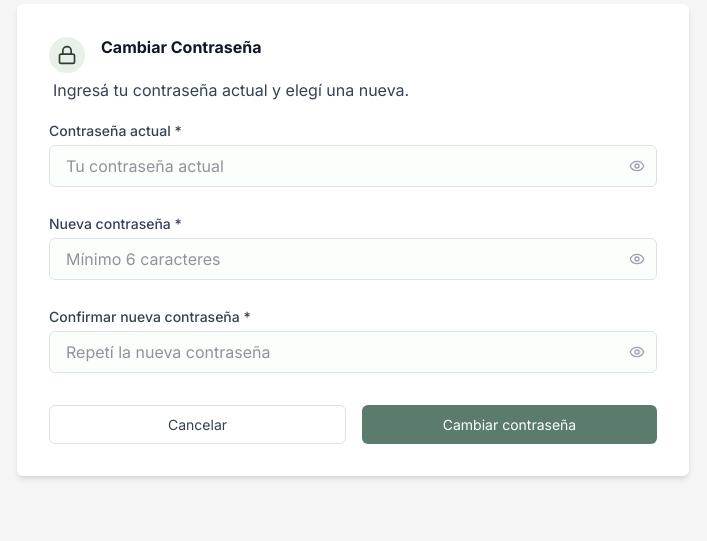
Test: ChangePassword › muestra error de validación: contraseña muy corta
In the password field with placeholder "Tu contraseña actual": (353, 166) 49,145 -> 657,187, type "oldpass"
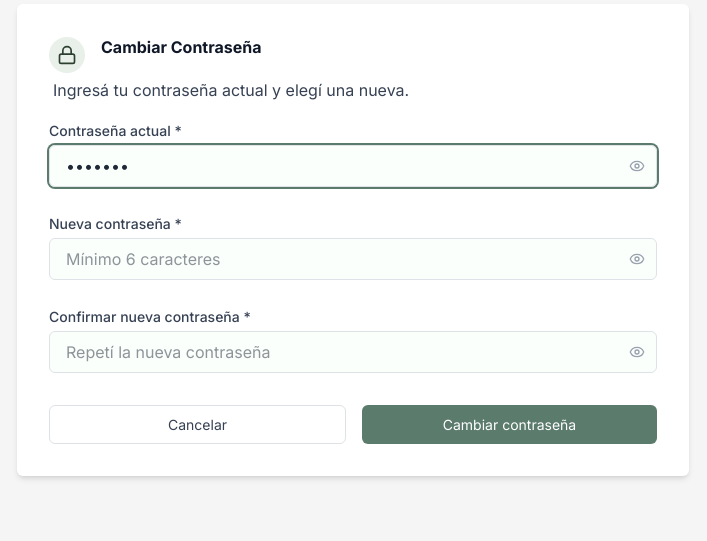
In the password field with placeholder "Mínimo 6 caracteres": (353, 259) 49,238 -> 657,280, type "abc"
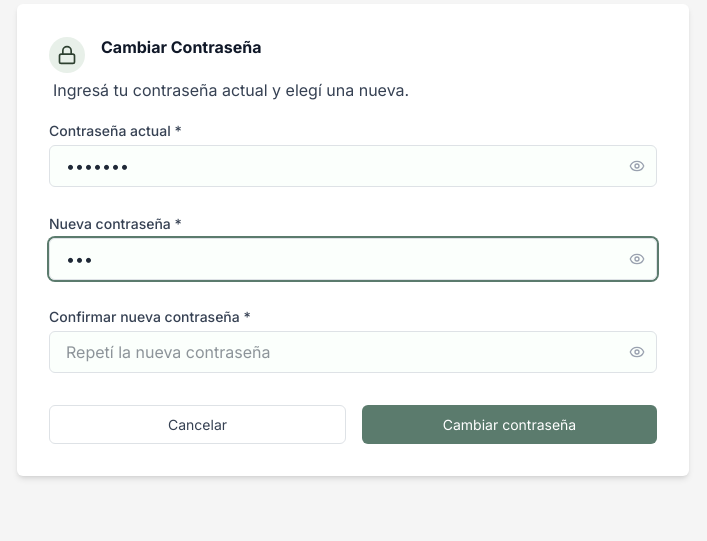
In the password field with placeholder "Repetí la nueva contraseña": (353, 352) 49,331 -> 657,373, type "abc"
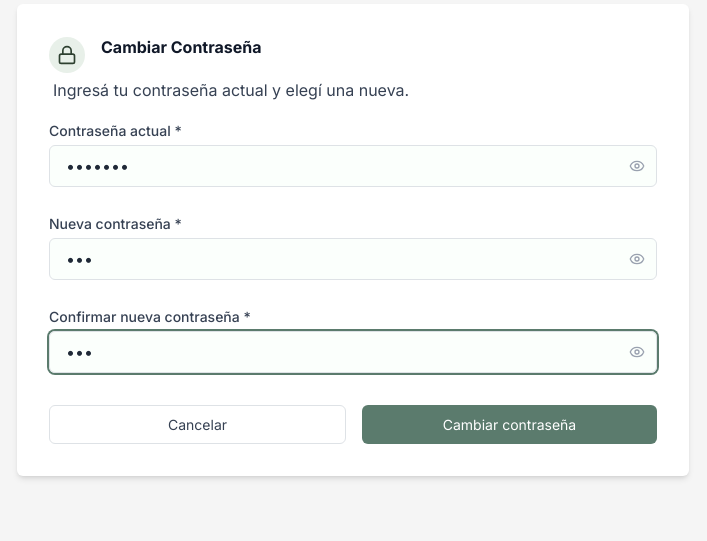
Click the button "Cambiar contraseña": (510, 425) 362,405 -> 657,444
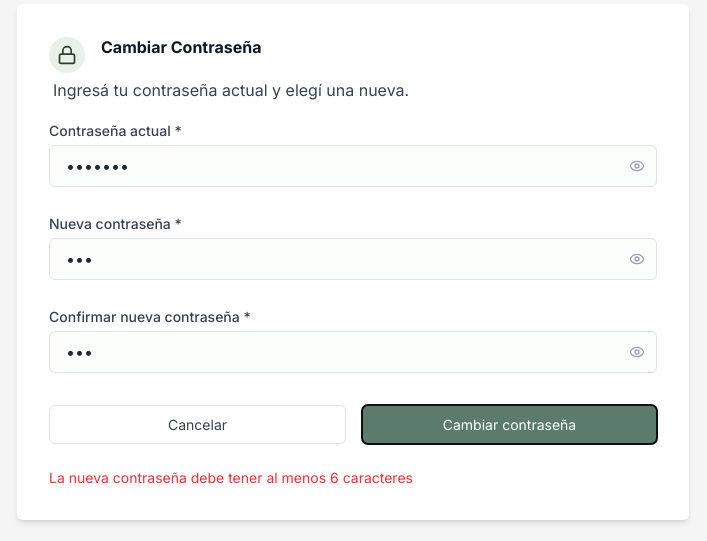
Now the text "La nueva contraseña debe tener al menos 6 caracteres" is shown, box 49,469 -> 413,486
